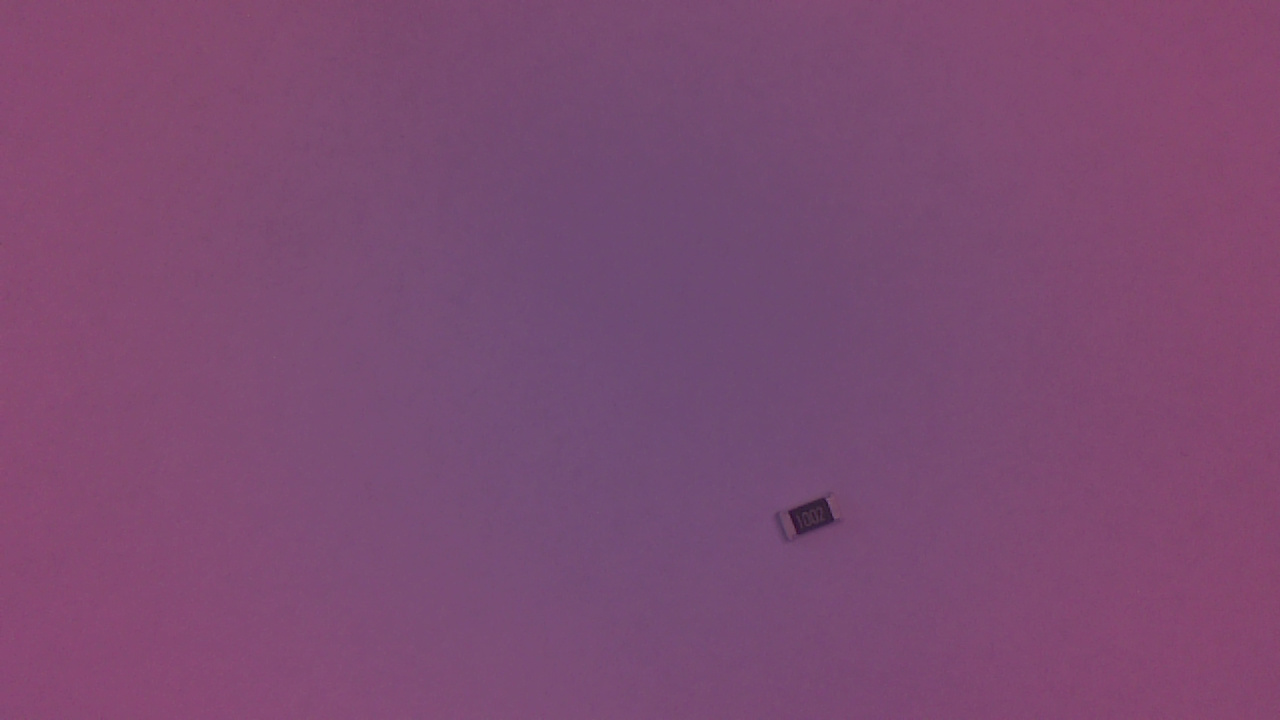Resistor: (777, 495, 856, 553)
